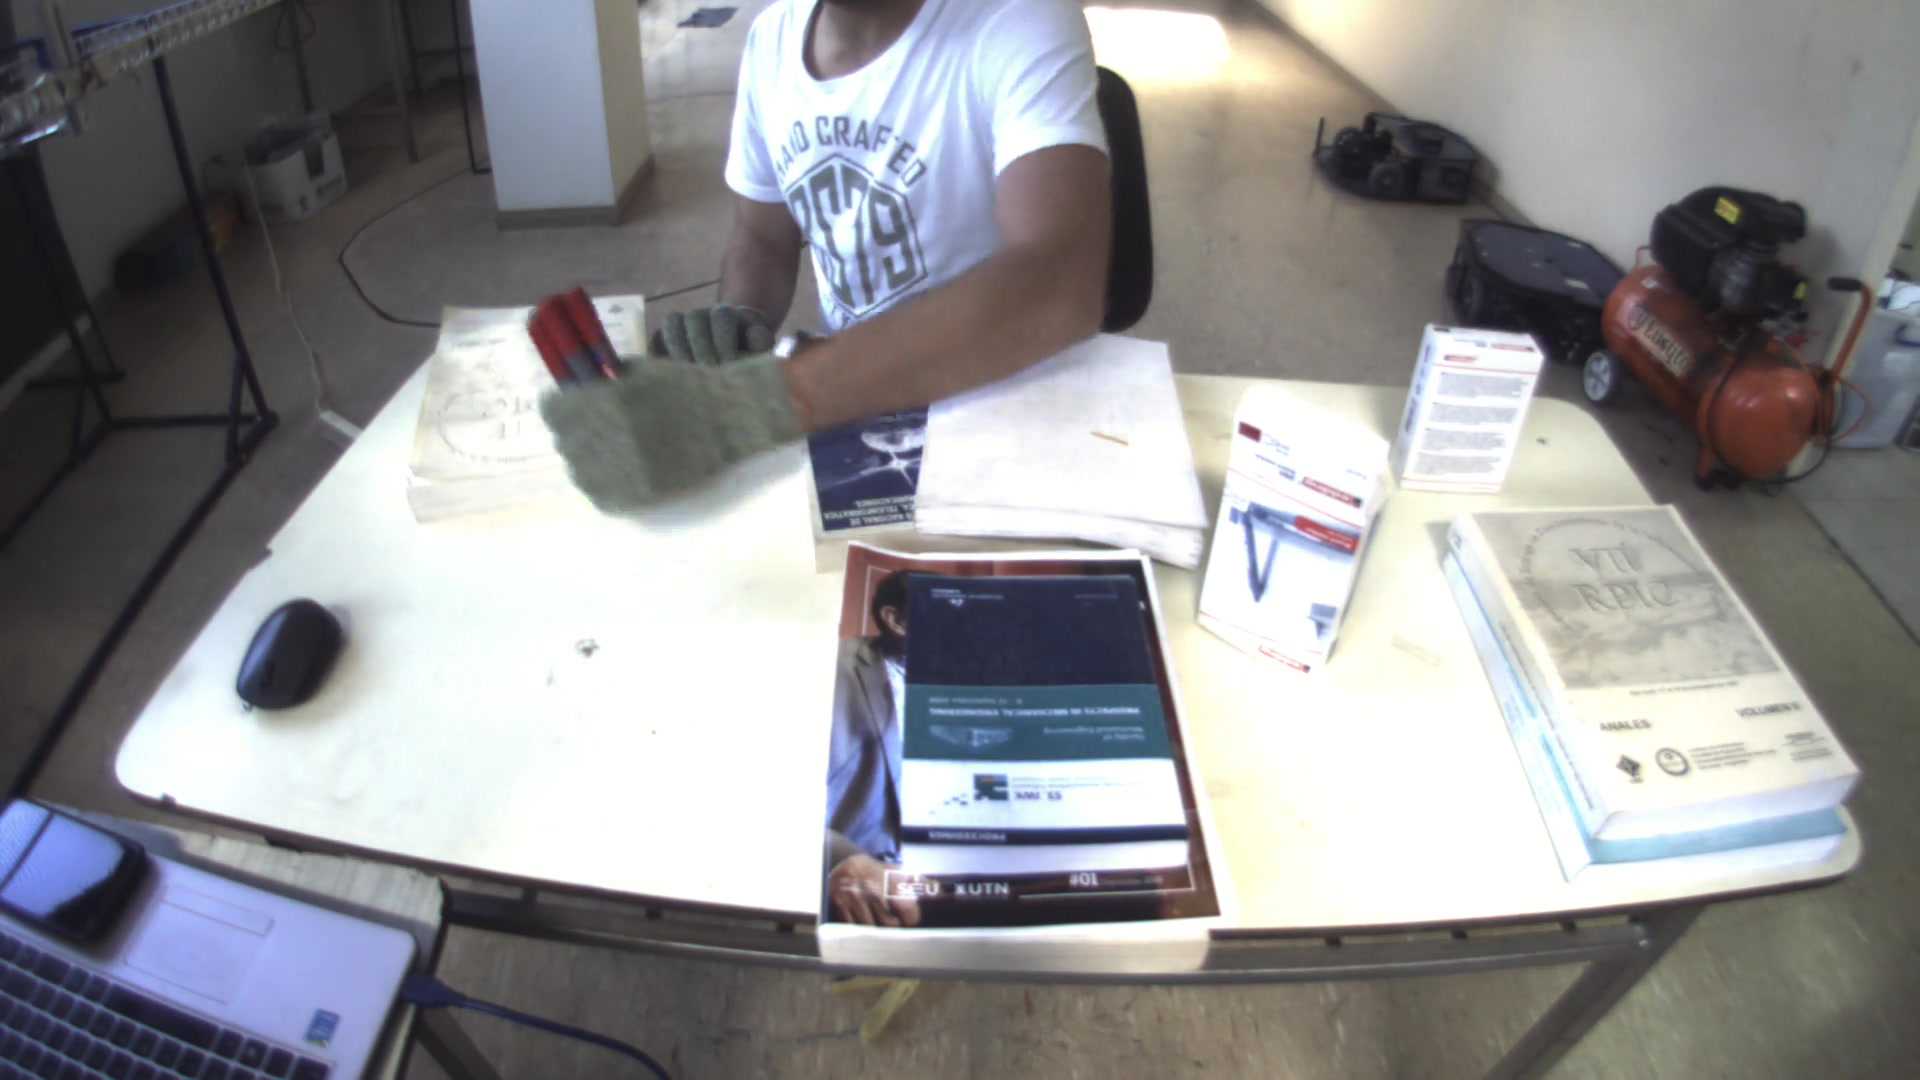hand: (546, 340, 804, 525), (633, 306, 777, 367)
